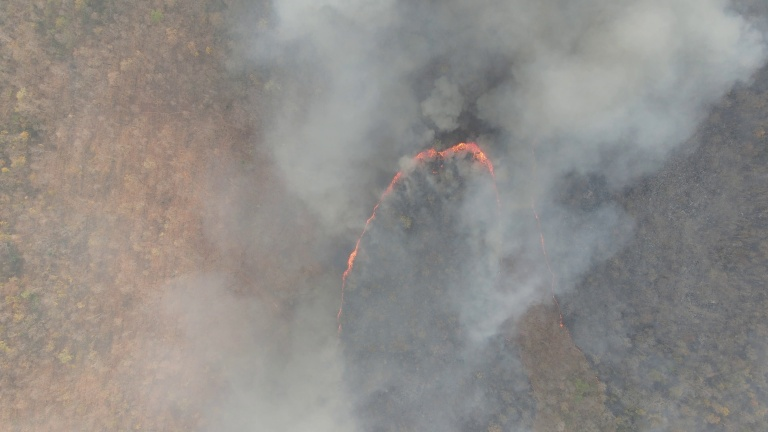fire: (334, 144, 502, 338), (525, 192, 568, 279), (547, 285, 578, 337)
smoke: (473, 1, 740, 316), (161, 260, 403, 432), (253, 1, 419, 212)
